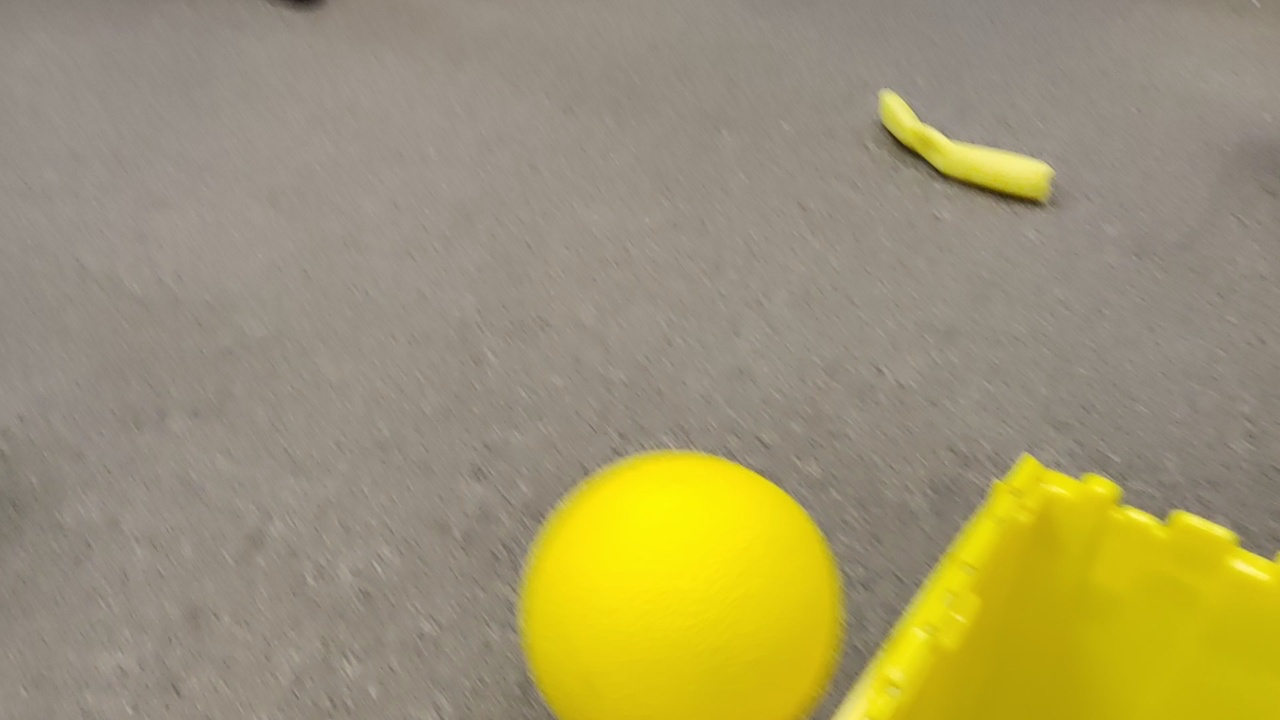Ball: (517, 451, 851, 720)
